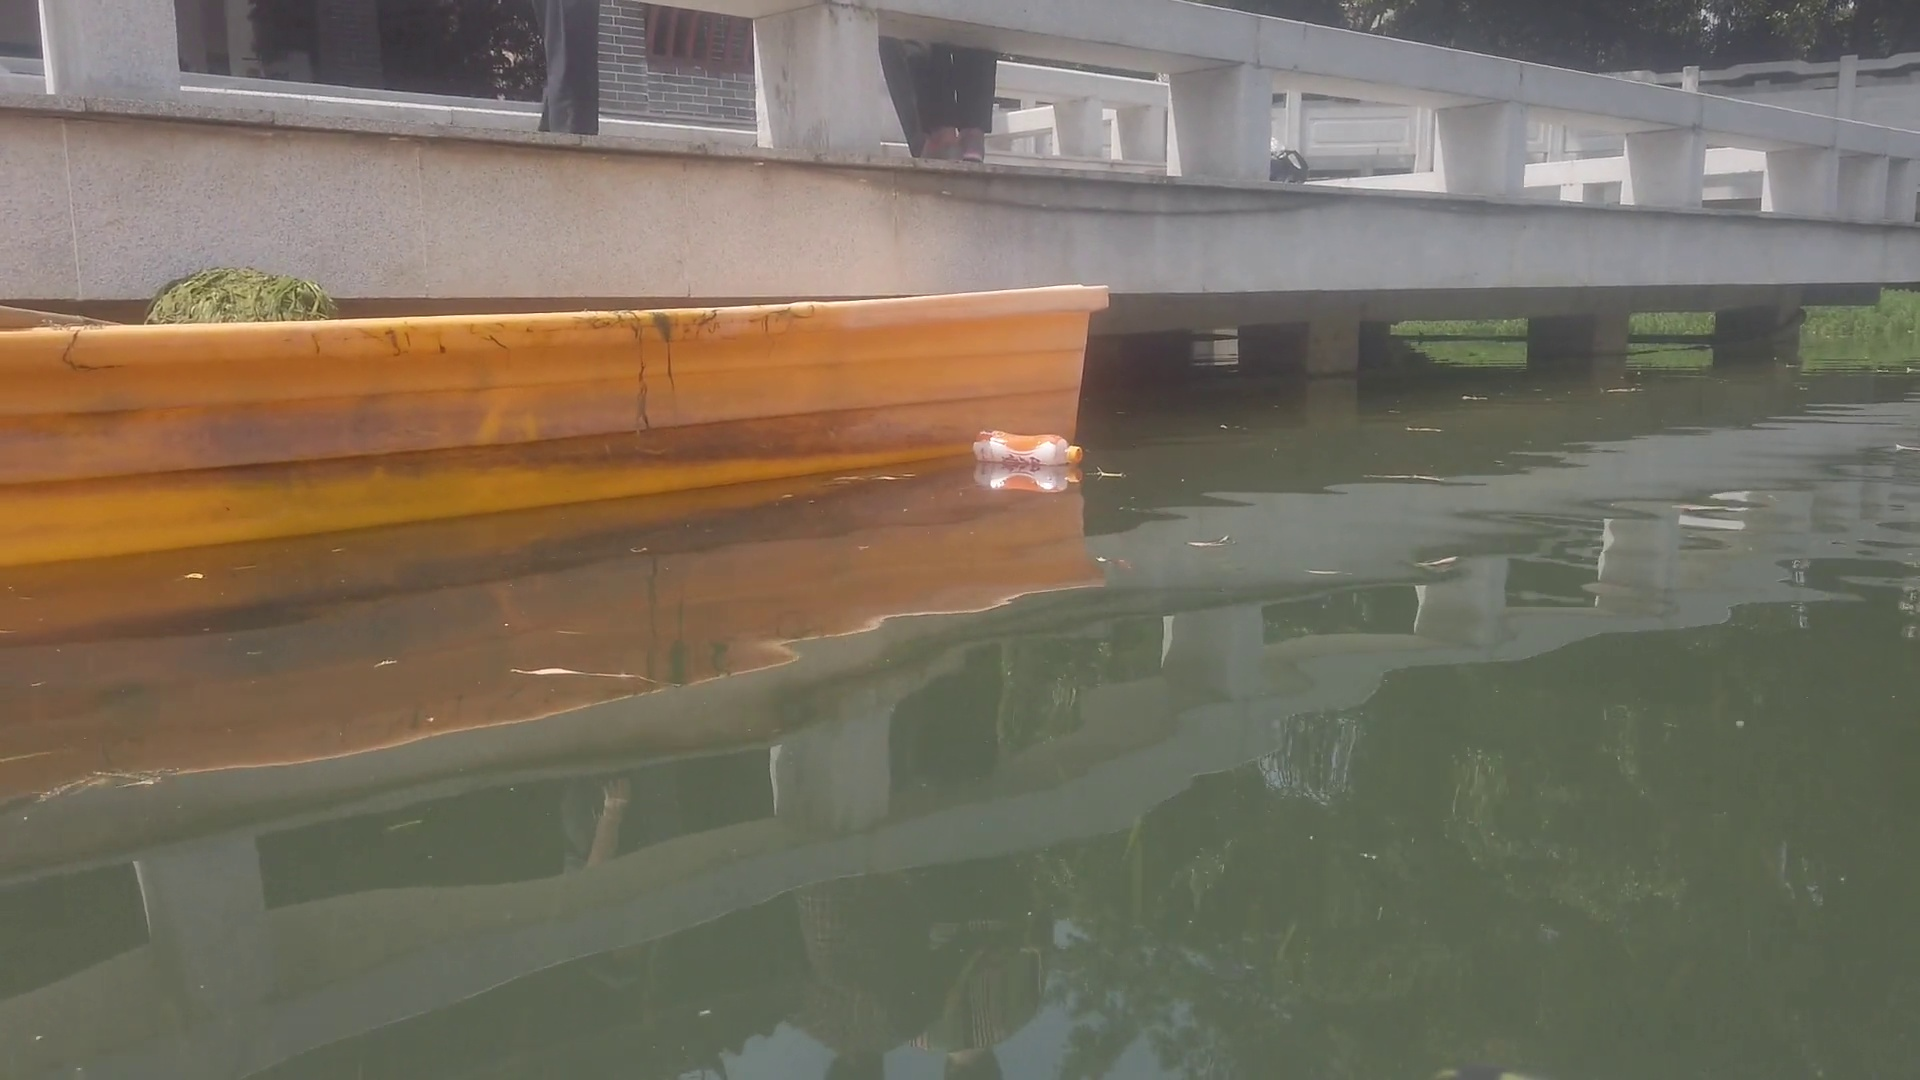bottle: (972, 429, 1085, 469)
